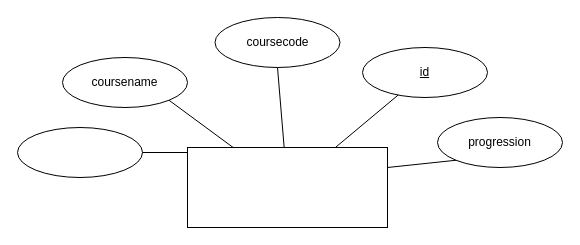
The diagram is 580 pixels wide and 245 high, and some of its shapes have lost their labels. The box of each missing label's shape, as (x1, y1, x2, y2) in pixels:
courses: (186, 146, 388, 228)
syllabus: (16, 126, 142, 178)
